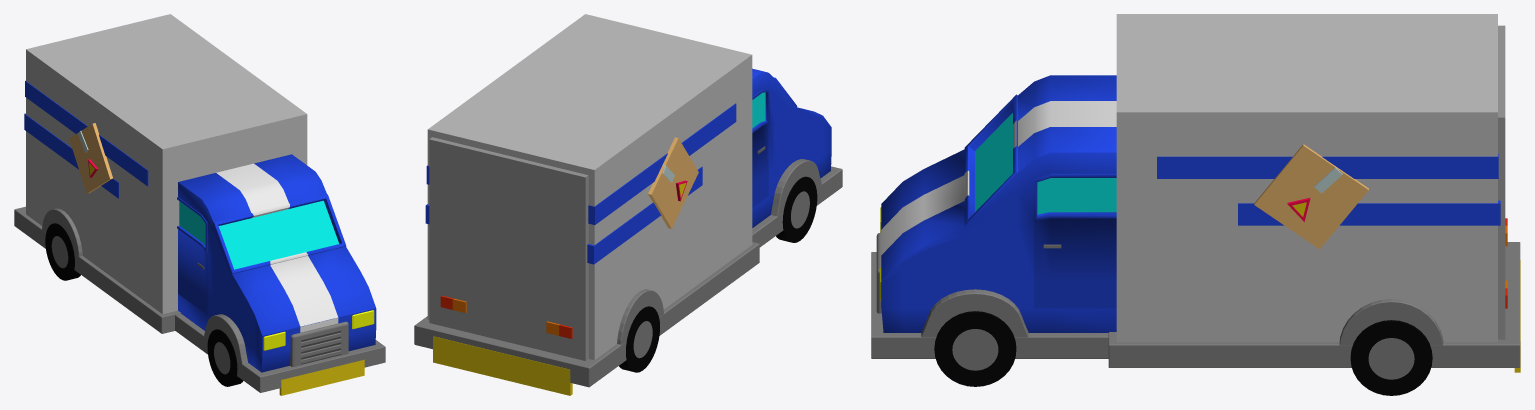
The model's file is PostCar.fbx.
3 views of the same model, side by side, from view 1: azimuth 30°, elevation 25°; view 2: azimuth 150°, elevation 25°; view 3: azimuth 270°, elevation 25° (orthographic). The views are drawn at different scales.
Parts seen in each view (by area): view 1: truck.001, Cylinder.005, Cylinder.006; view 2: truck.001, Cylinder.005, Cylinder.006; view 3: truck.001, Cylinder.003, Cylinder.004.
Part boxes in pixels (<box>): truck.001: <box>14,14,385,395</box>; Cylinder.005: <box>207,329,243,386</box>; Cylinder.006: <box>45,223,80,280</box>; truck.001: <box>414,14,842,395</box>; Cylinder.005: <box>776,176,817,242</box>; Cylinder.006: <box>619,306,659,372</box>; truck.001: <box>871,14,1520,372</box>; Cylinder.003: <box>1350,320,1432,395</box>; Cylinder.004: <box>934,311,1016,386</box>.
Bounding box in the file's own units: 147 × 181 × 380.
